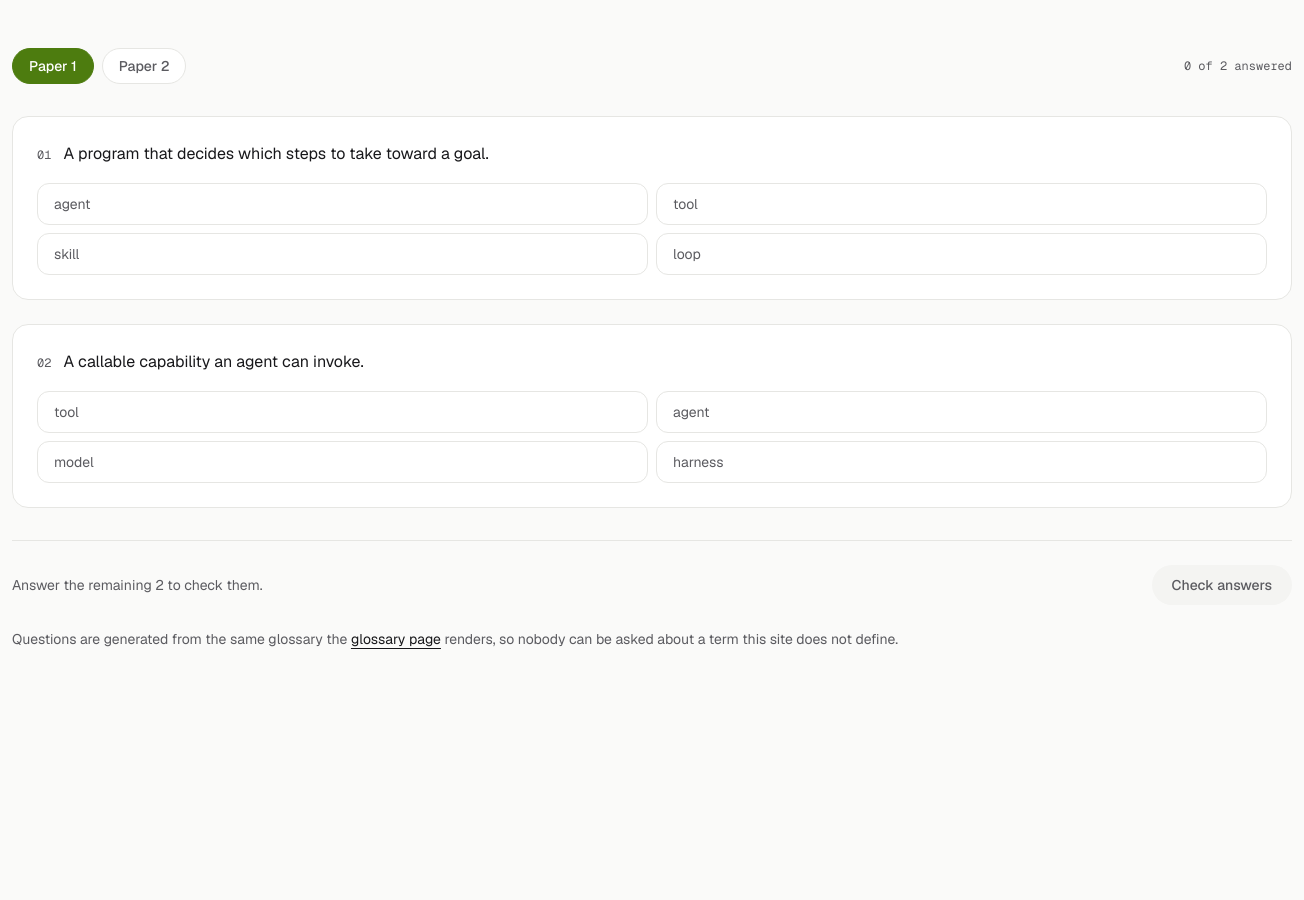
GlossaryQuiz › switches between seeded papers and starts each one fresh
Step 1. Click the button "agent" below "01" → (72,204), box [37, 183, 648, 225]
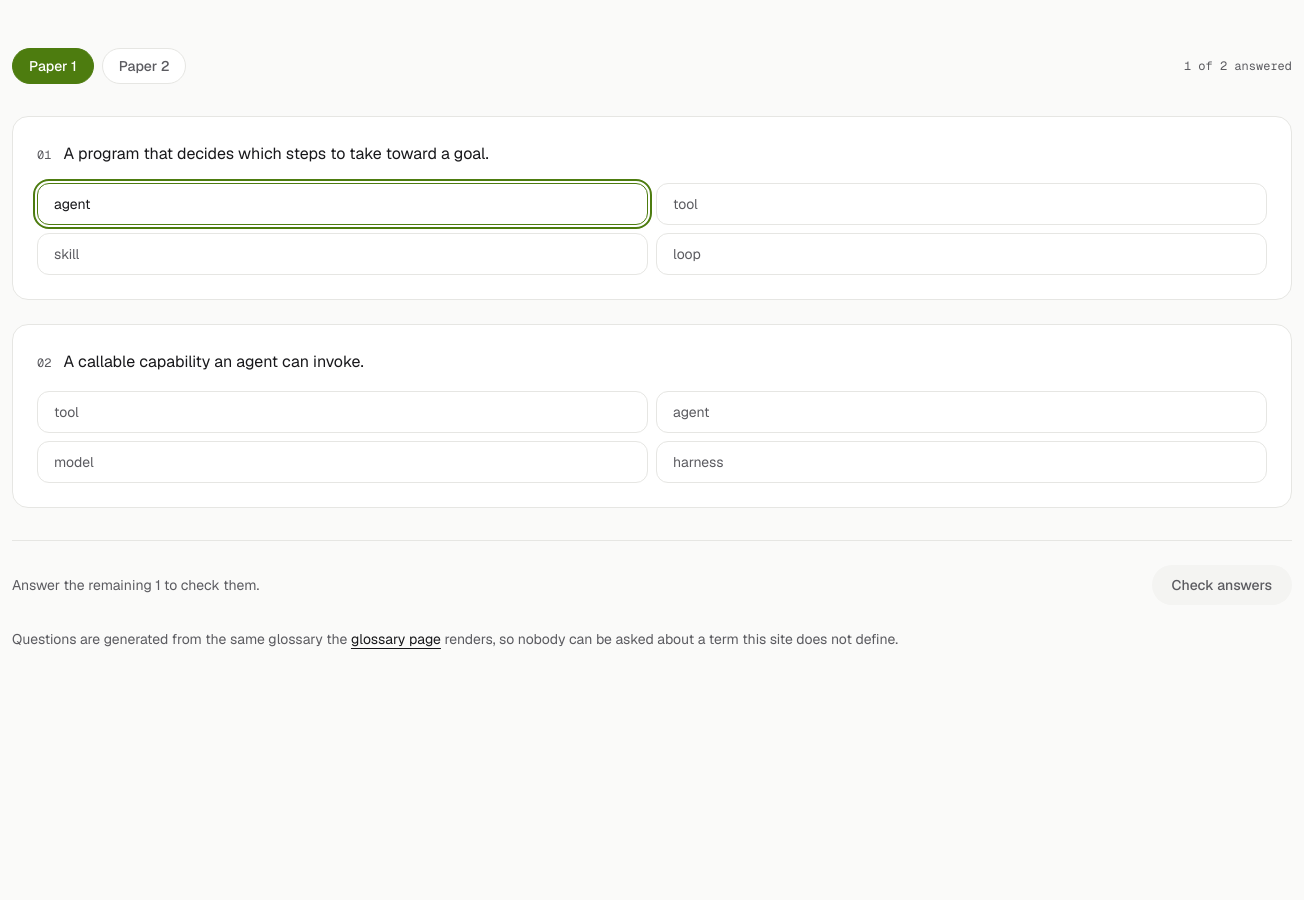
Check: the text "1 of 2 answered" is shown, box [1184, 58, 1292, 74]
Step 2. Click the button "Paper 2" → (144,66), box [102, 48, 186, 84]
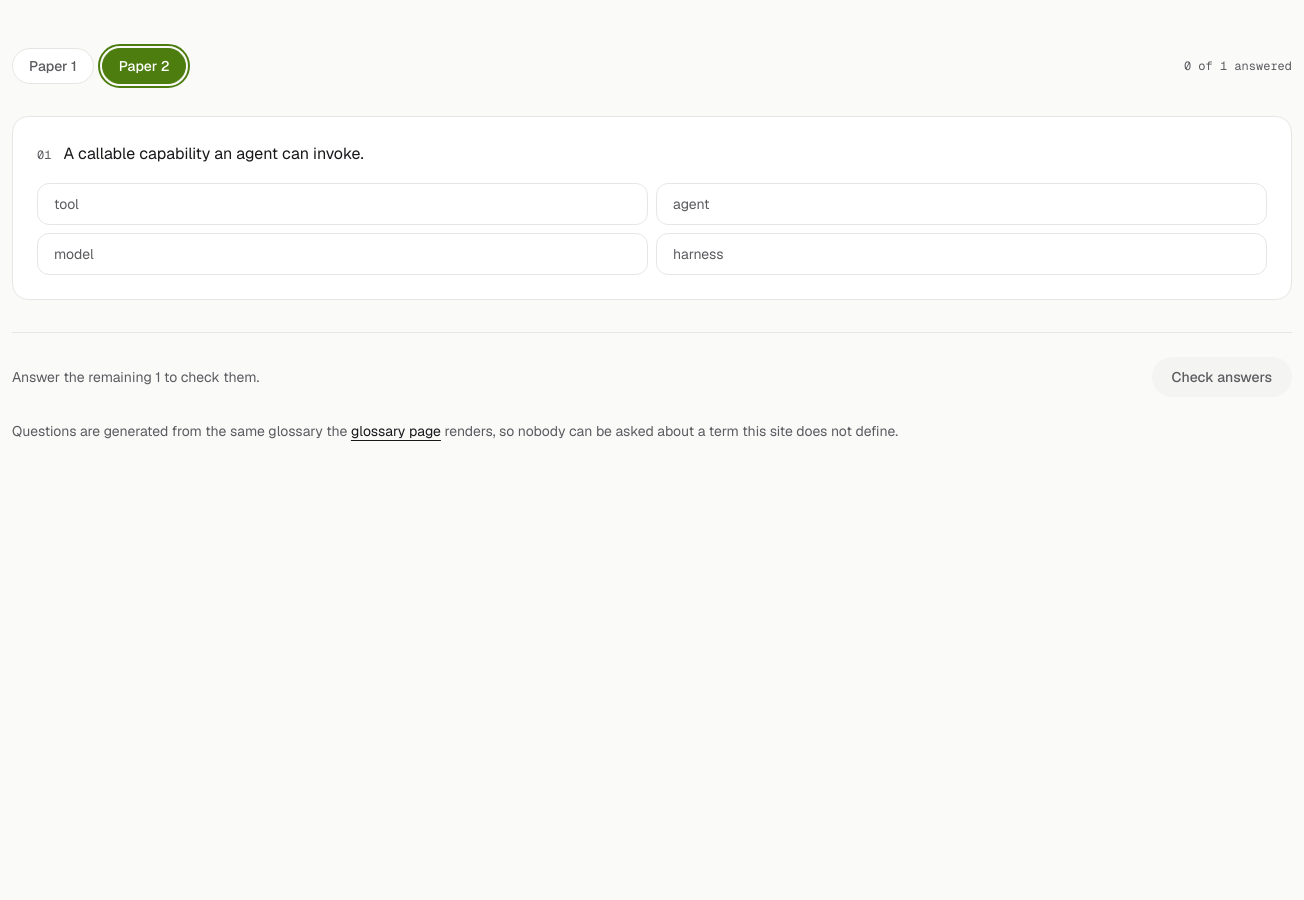
Check: the text "0 of 1 answered" is shown, box [1184, 58, 1292, 74]
Step 3. Click the button "Paper 1" → (53,66), box [12, 48, 94, 84]
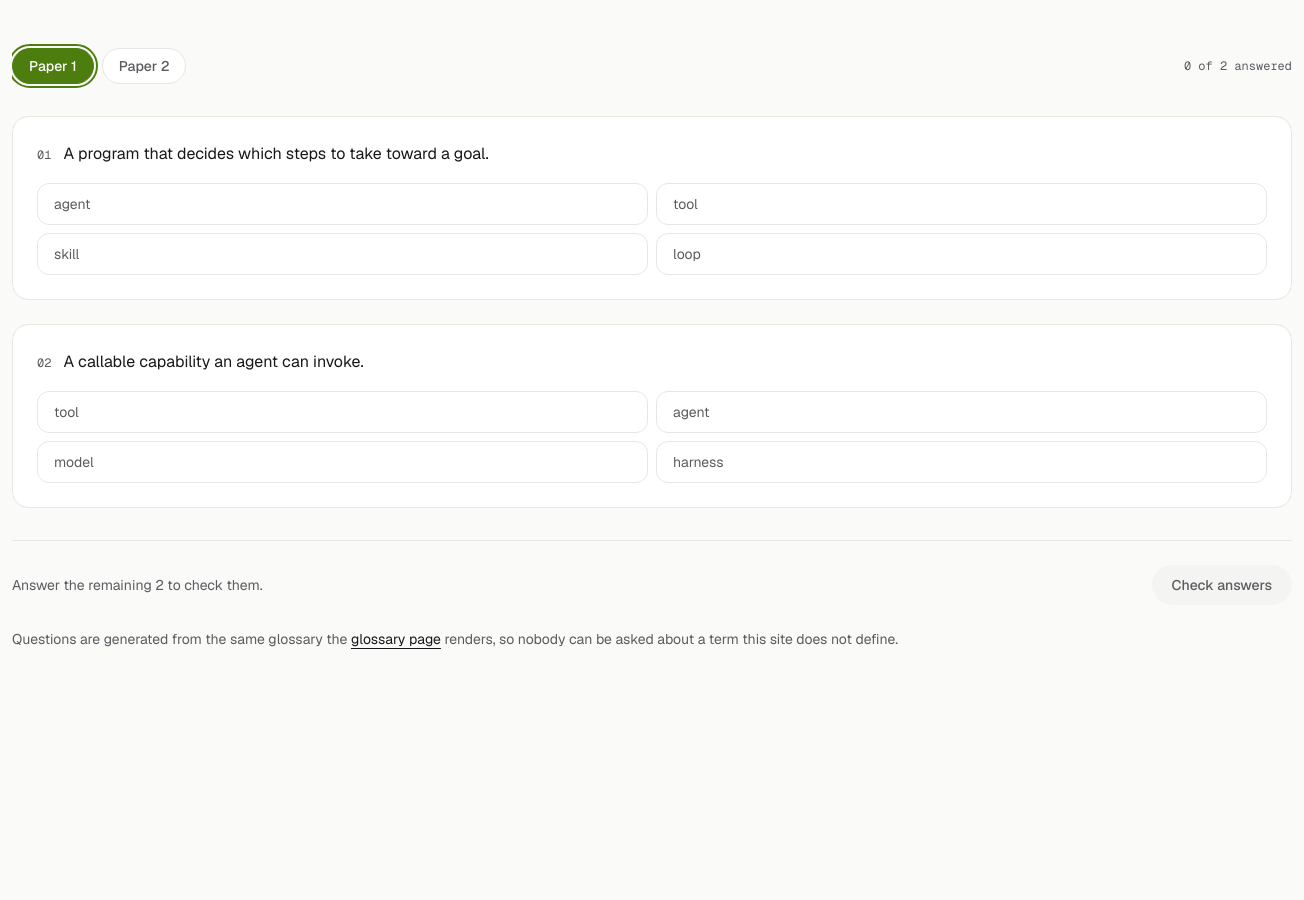
Check: the text "0 of 2 answered" is shown, box [1184, 58, 1292, 74]
